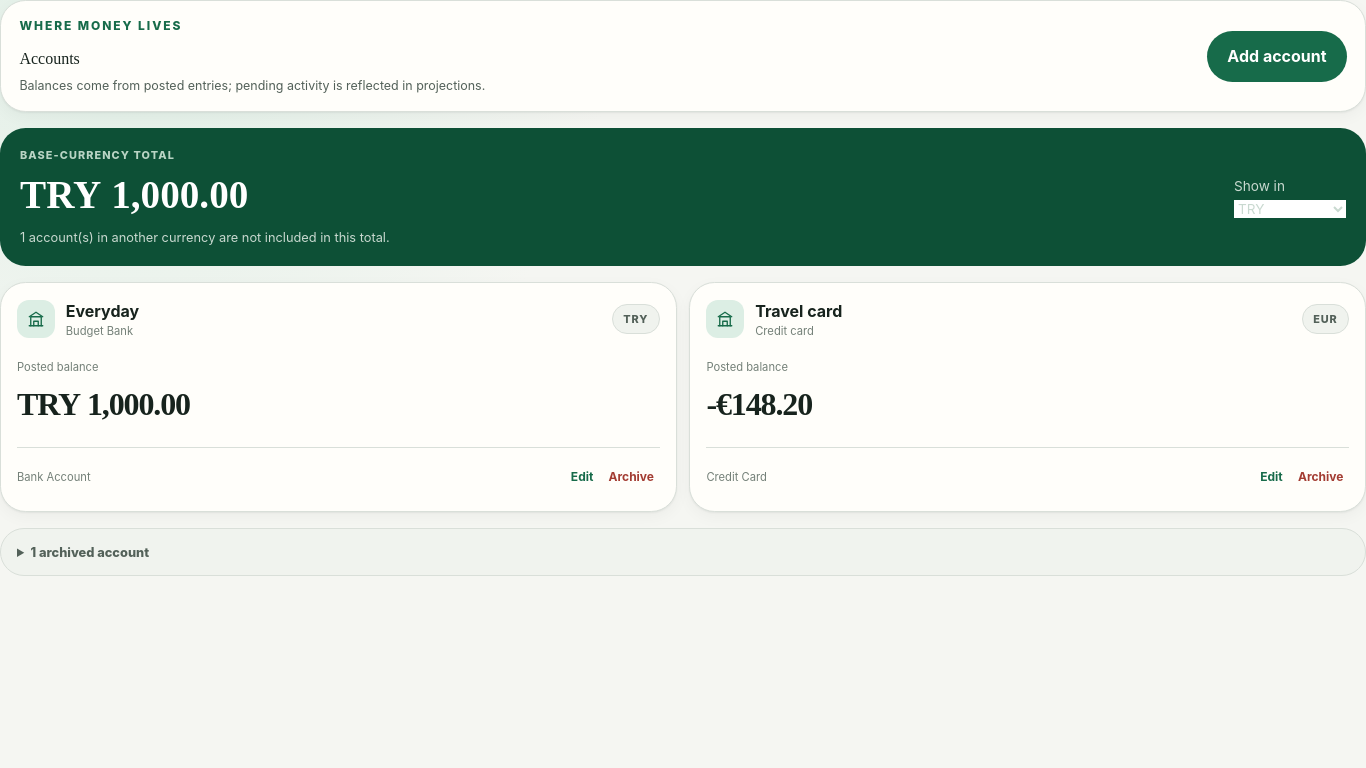
Test: AccountsPanel › surfaces the account currency lock from the server in the editor
Click the button "Edit" in the row of "Bank account" at coordinates (582, 477), box [565,459,599,495]
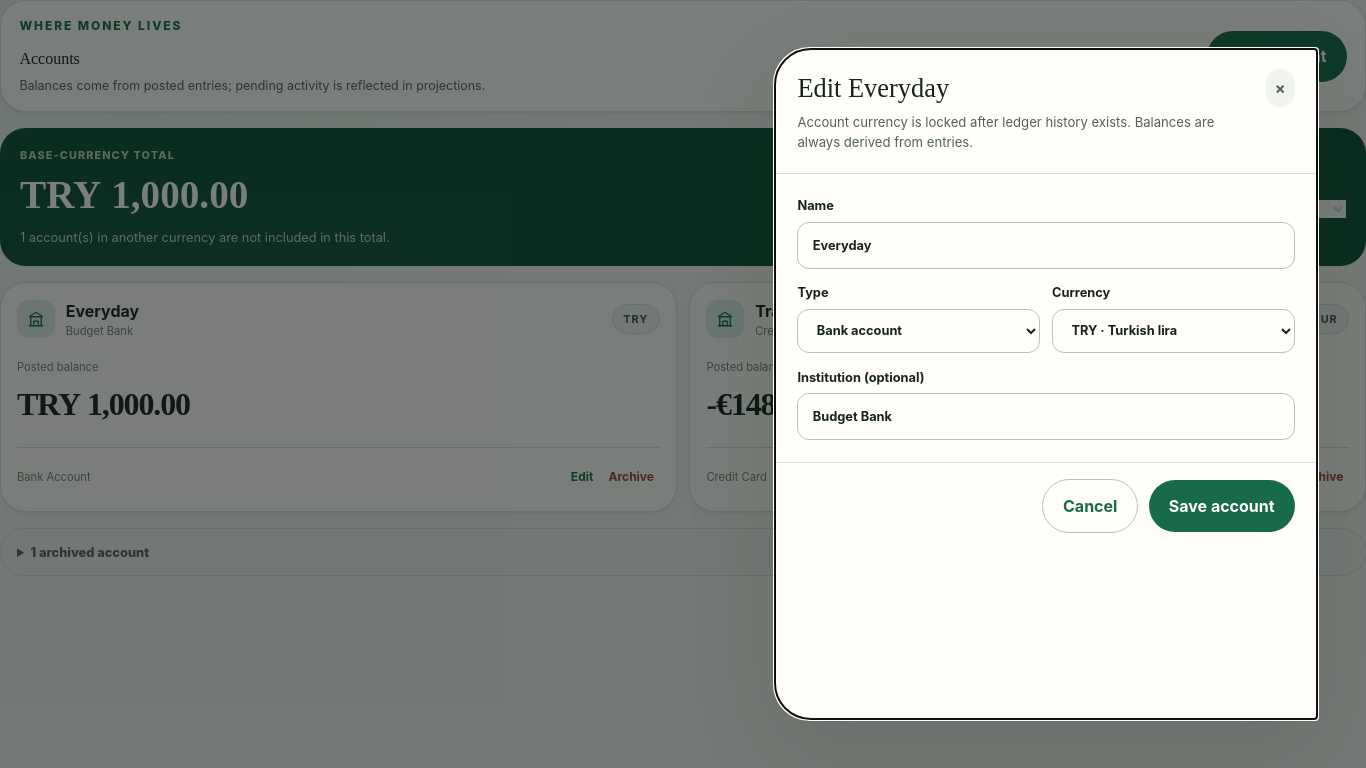
expect the dialog "Edit Everyday" is shown: met, box [774,48,1318,720]
Select "USD · US dollar" in the dropdown labelled "Currency" at coordinates (1173, 331), box [1052,308,1295,353]
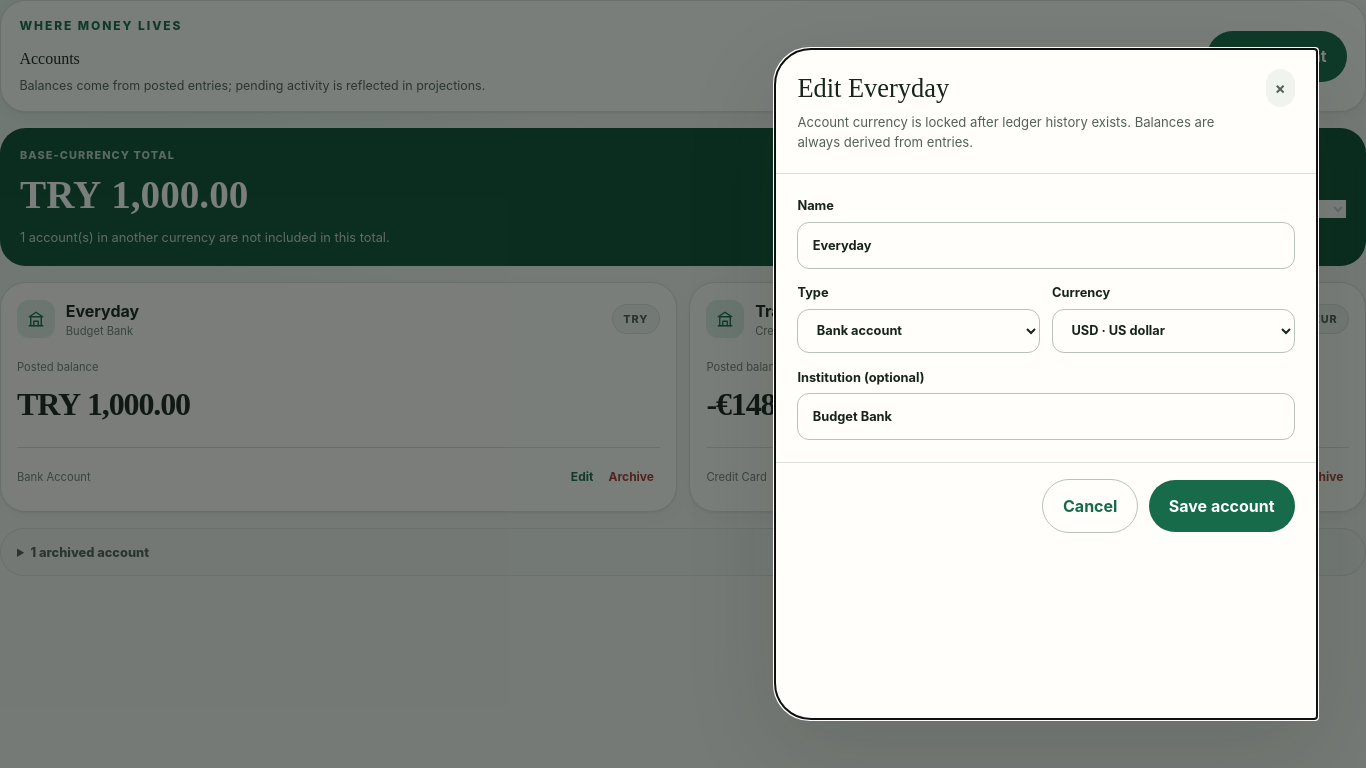
Click the button "Save account" at coordinates (1222, 506), box [1149,480,1295,532]
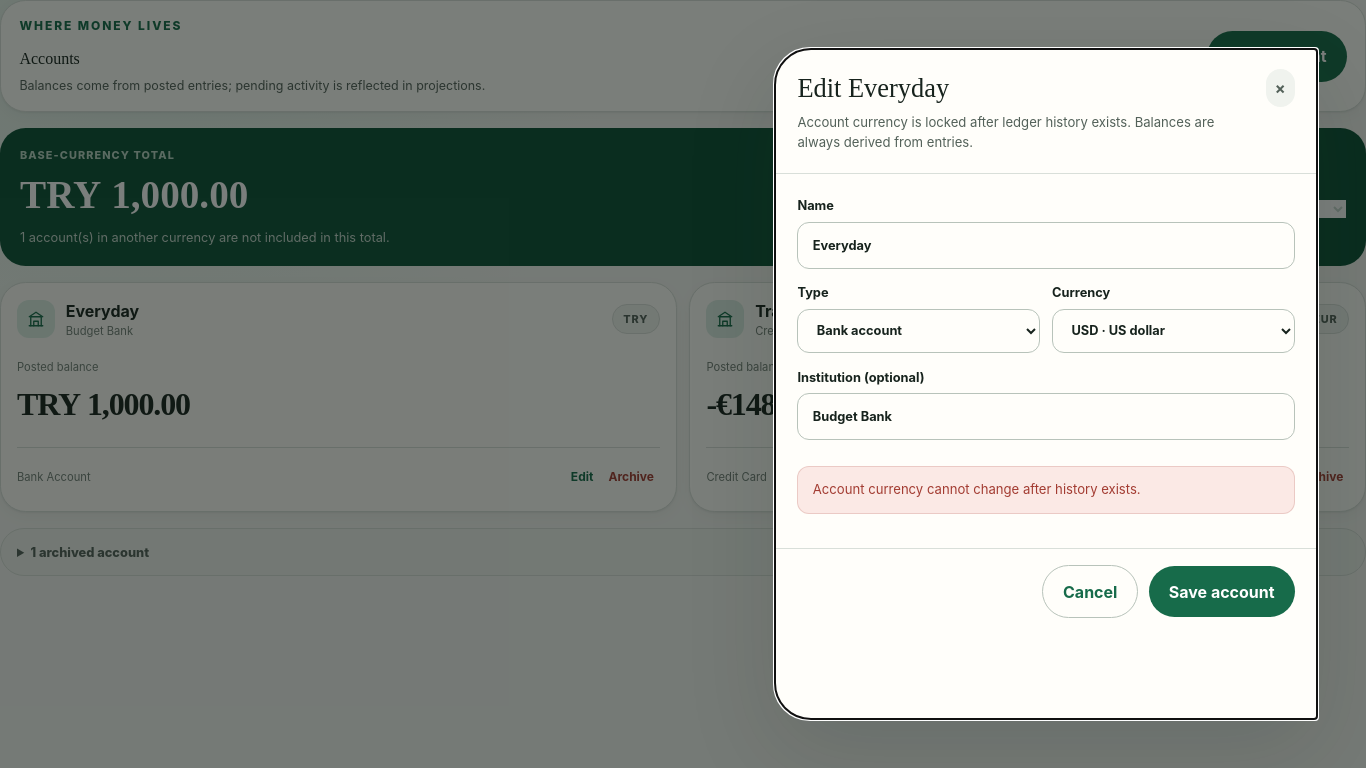
expect the message reads "Account currency cannot change after history exists.": met, box [813,481,1141,497]
